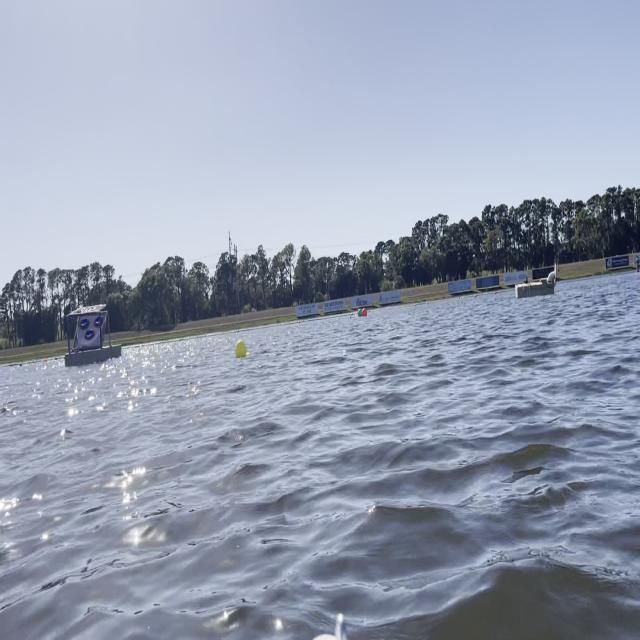buoy: (234, 339, 247, 359), (362, 306, 367, 318), (357, 307, 361, 317)
